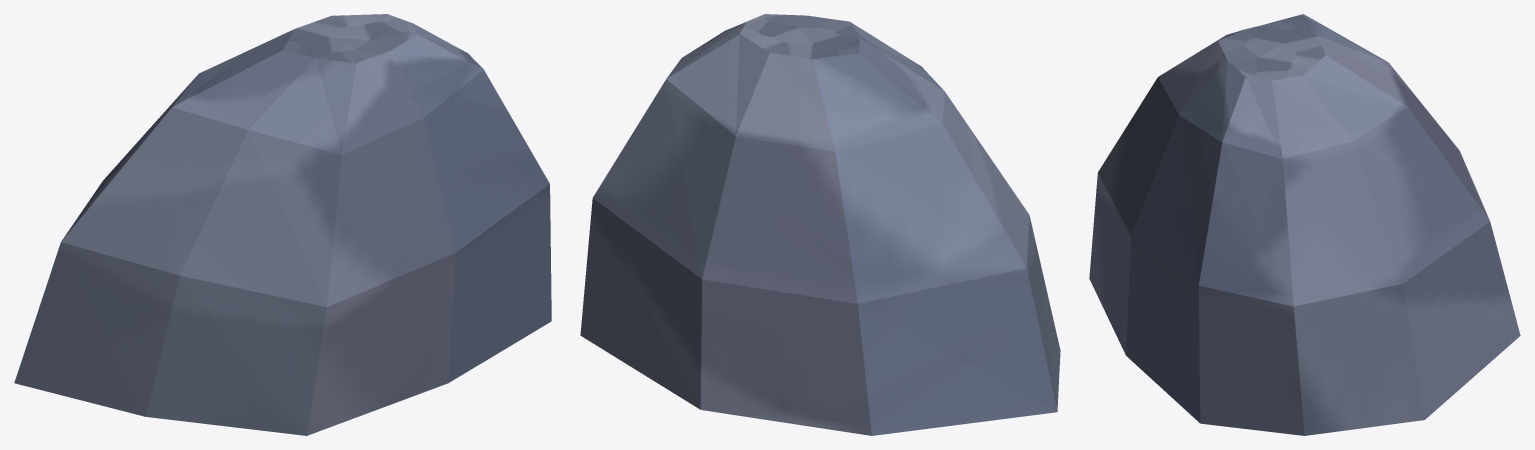
Rendered from coastal_rock_wide.glb.
The picture shows the model from 3 angles, left to right: view 1: azimuth 30°, elevation 25°; view 2: azimuth 150°, elevation 25°; view 3: azimuth 270°, elevation 25°; orthographic projection. The views are drawn at different scales.
Parts seen in each view (by area): view 1: beach_coastal_rock_wide; view 2: beach_coastal_rock_wide; view 3: beach_coastal_rock_wide.
Boxes of the visible parts, x1,y1,x2,y2 form: beach_coastal_rock_wide: [14, 14, 551, 435]; beach_coastal_rock_wide: [580, 14, 1060, 435]; beach_coastal_rock_wide: [1089, 14, 1520, 435].
Size of the model in its own units: 2.6 by 1.5 by 2.
1 material, 1 textured.
